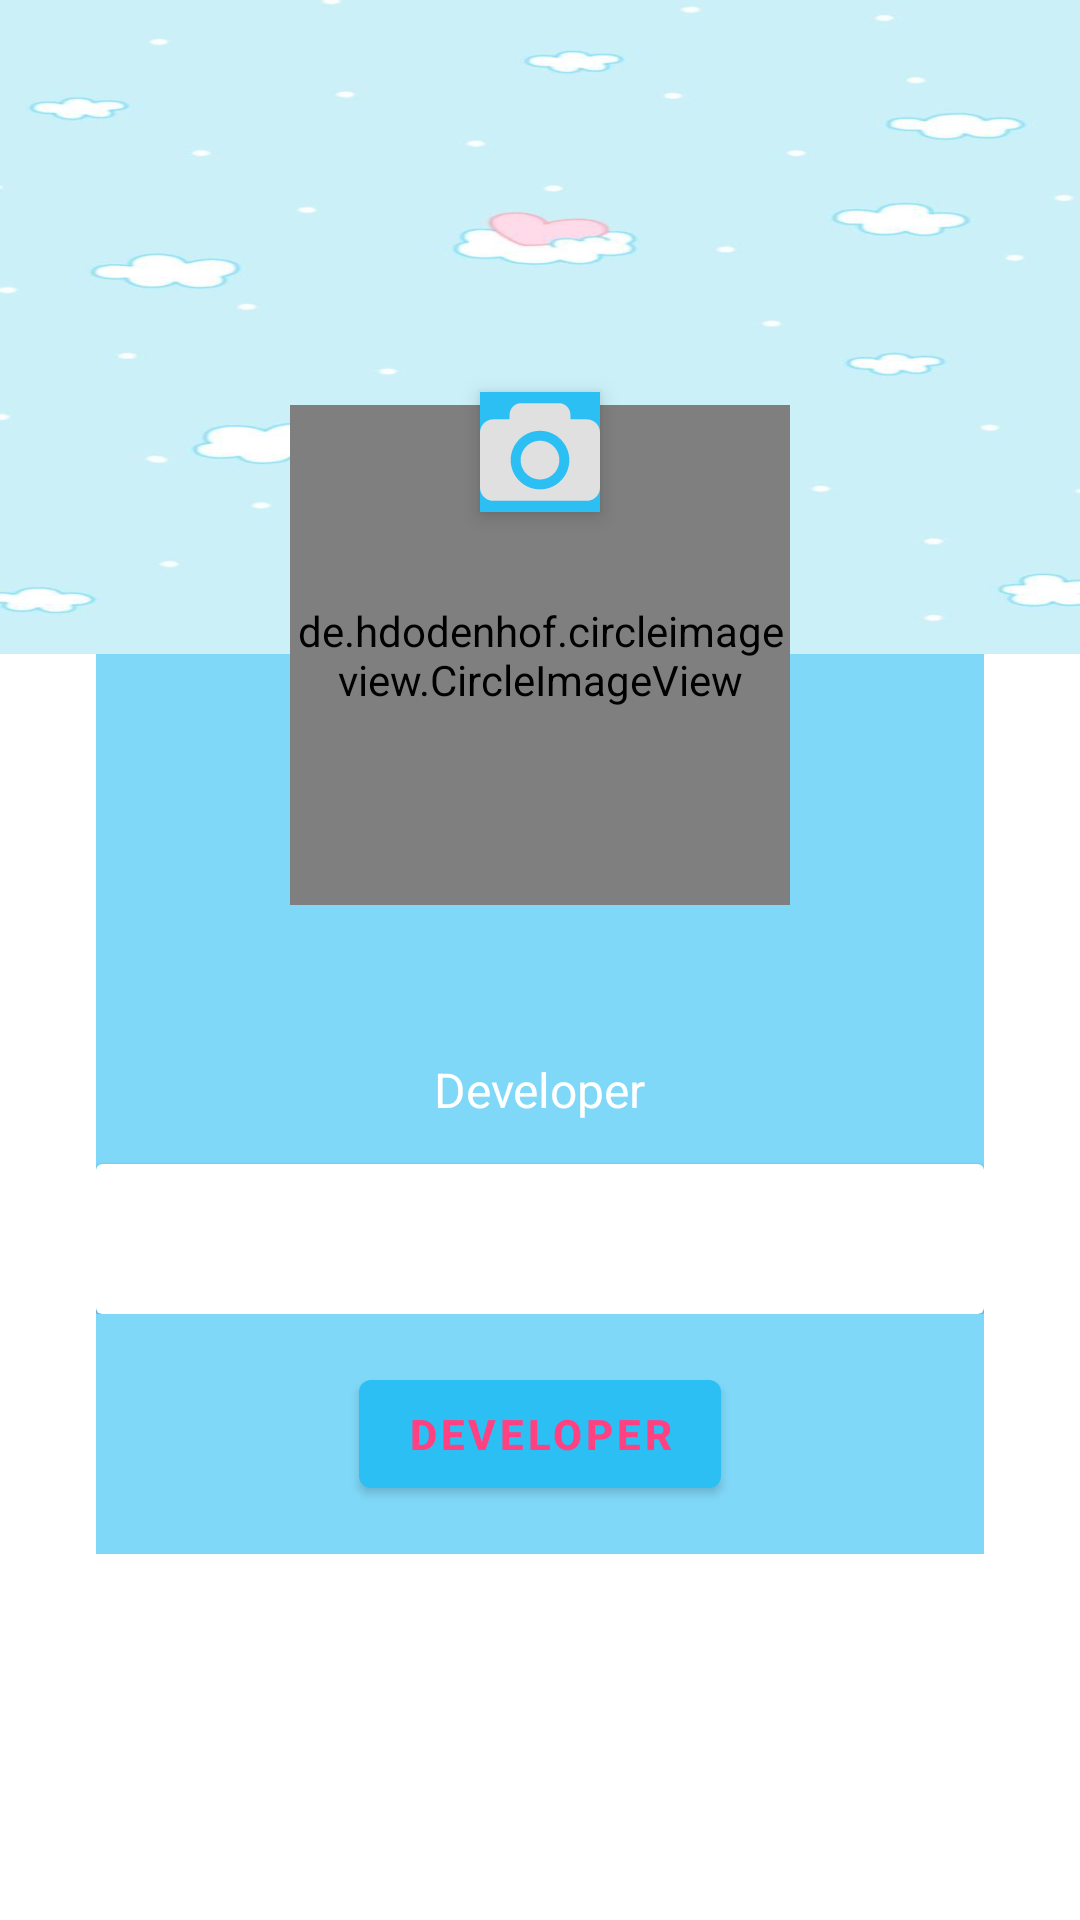

Screen size 1080px x 1920px. Icon name, then its box in pixels as (x1=x1, y1=y1, x2=x2, y2=y2):
camera: (x1=480, y1=392, x2=600, y2=512)
